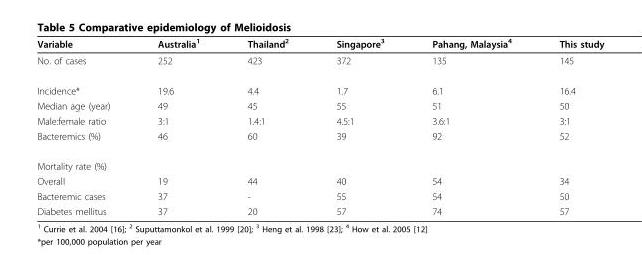table: (36, 36, 603, 216)
table column: (407, 36, 534, 216), (36, 36, 133, 216), (311, 36, 407, 216), (133, 36, 223, 216), (223, 36, 311, 216), (534, 36, 603, 216)
table column header: (36, 36, 603, 51)
table projected row header: (36, 150, 603, 173)
table row: (36, 51, 603, 75), (36, 150, 603, 173), (36, 75, 603, 97), (36, 128, 603, 150), (36, 97, 603, 113), (36, 36, 603, 51), (36, 113, 603, 128), (36, 173, 603, 188), (36, 188, 603, 203), (36, 203, 603, 216)
